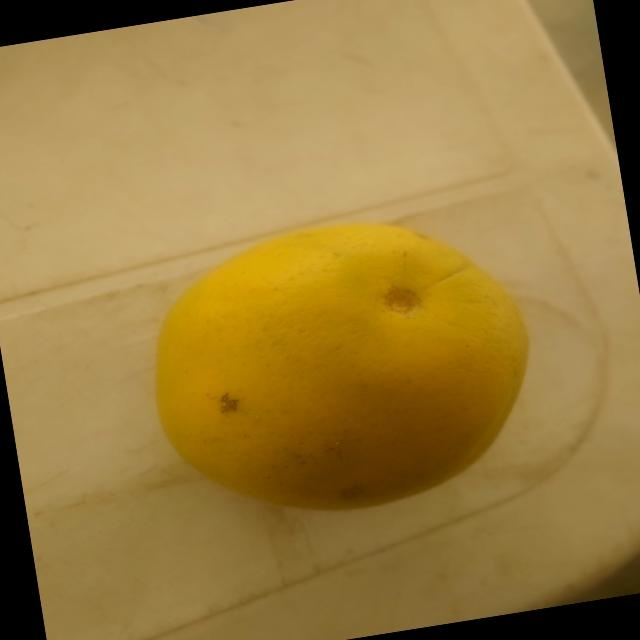agrume: (127, 192, 561, 548)
